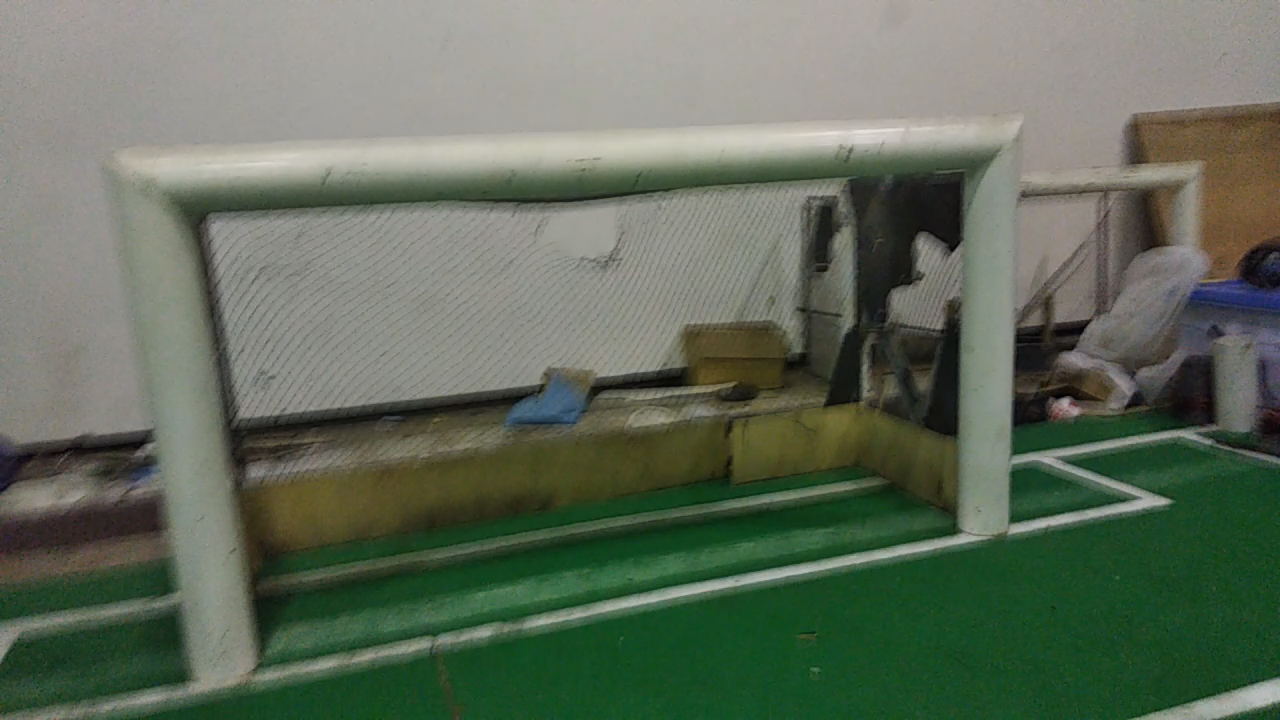gawang: (80, 110, 1028, 695)
